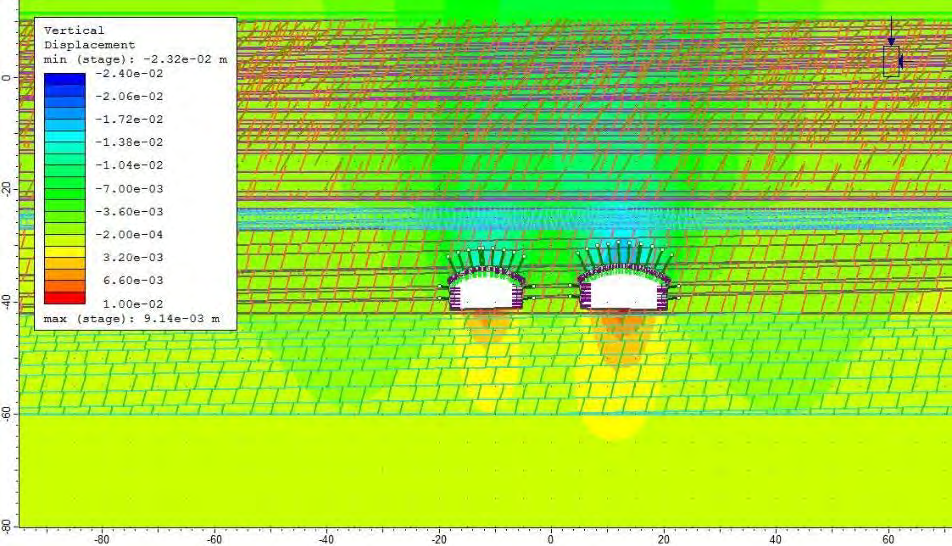crown: (473, 256, 497, 269), (610, 255, 635, 265)
label: (35, 17, 236, 330)
tunnel-opening: (581, 265, 666, 308), (450, 270, 520, 309)
